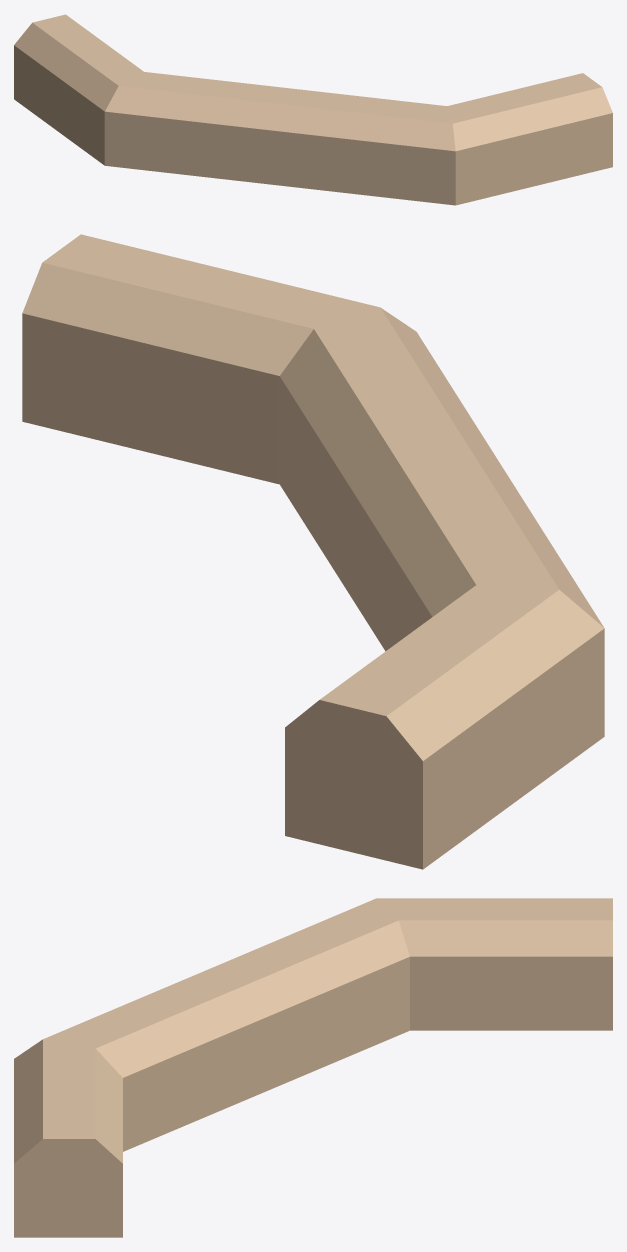
The model's file is Wall_Curved_Small_Coping.fbx.
3 views of the same model, one above another, from view 1: azimuth 30°, elevation 25°; view 2: azimuth 150°, elevation 25°; view 3: azimuth 270°, elevation 25° (orthographic). The views are drawn at different scales.
Parts seen in each view (by area): view 1: object1; view 2: object1; view 3: object1.
Boxes of the visible parts, x1,y1,x2,y2 form: object1: [14, 14, 612, 205]; object1: [22, 234, 604, 869]; object1: [14, 898, 612, 1237].
Size of the model in its own units: 1.1 by 0.2 by 1.1.
